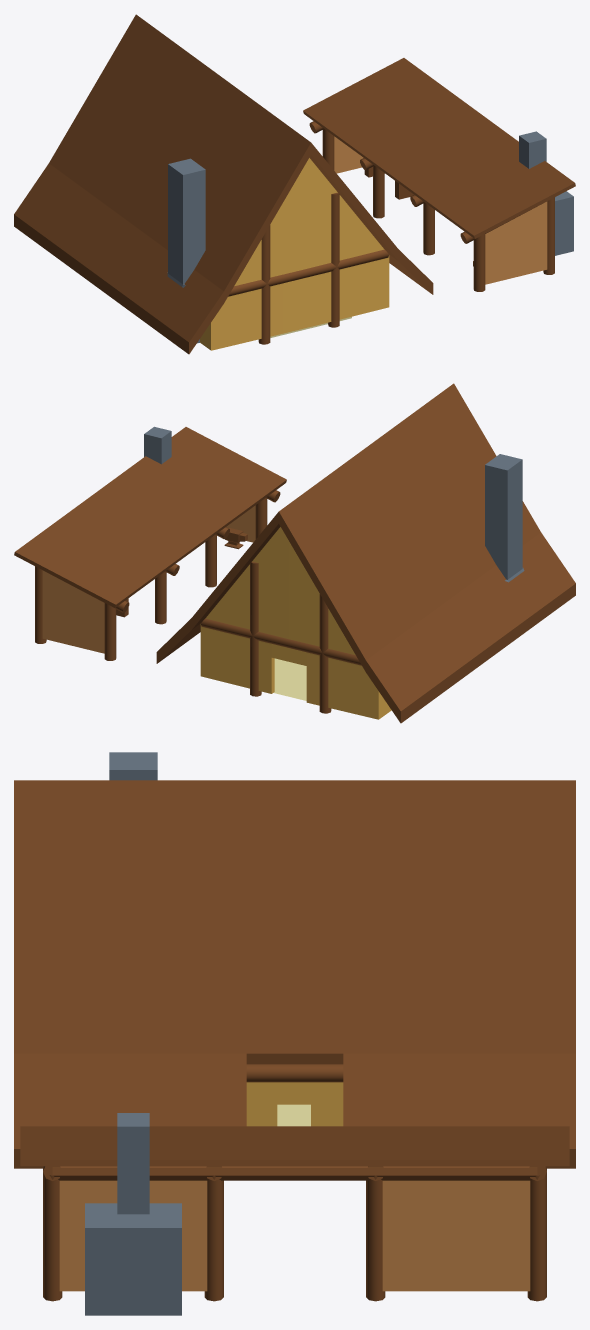
The model's file is casa teste.fbx.
The picture shows the model from 3 angles, top to bottom: view 1: azimuth 30°, elevation 25°; view 2: azimuth 150°, elevation 25°; view 3: azimuth 270°, elevation 25°; orthographic projection. The views are drawn at different scales.
Visible parts, largest first — view 1: I Chao; view 2: I Chao; view 3: I Chao.
Part boxes in pixels (x1,y1,x2,y2): I Chao: (14,14,575,354); I Chao: (14,383,575,723); I Chao: (14,752,575,1315).
Size of the model in its own units: 17.4 by 11.37 by 23.35.
